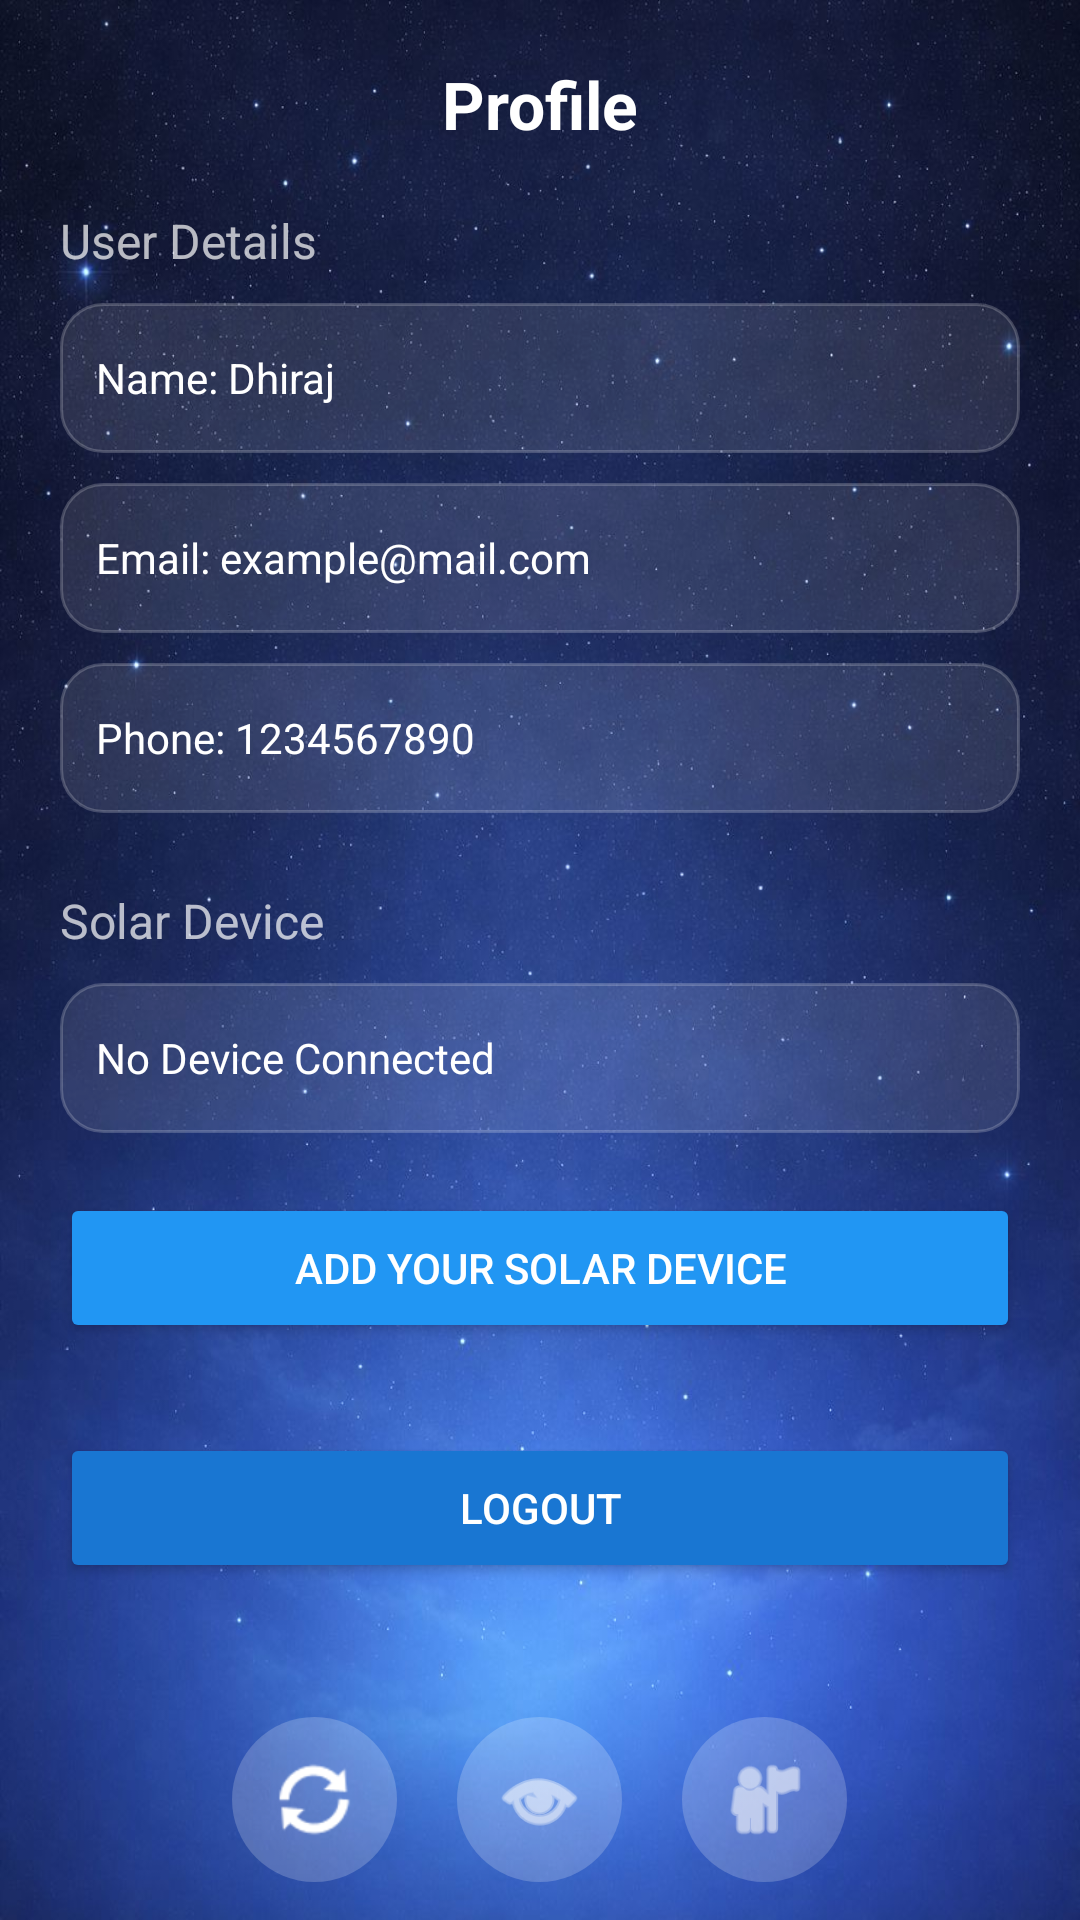

Where to tap for icons on this 1080w x 1920h app screen, as (x=x, y=y):
myplaces: (x=764, y=1799)
popup sync: (x=314, y=1799)
view: (x=539, y=1799)
